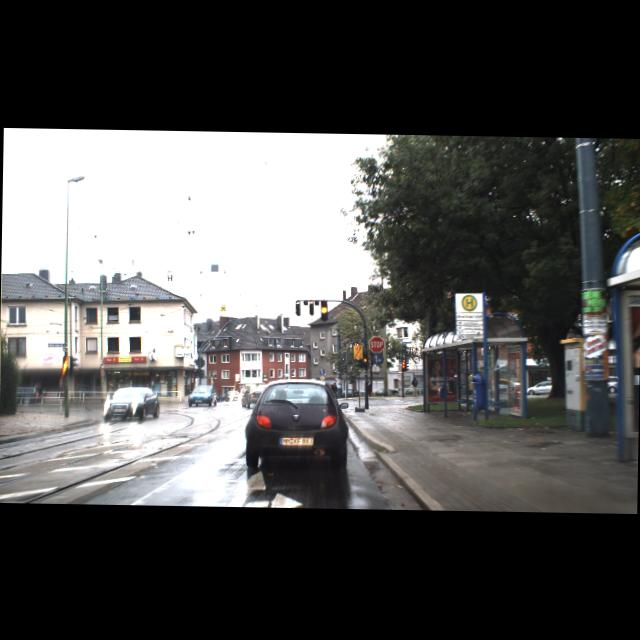mandatory: (371, 352, 382, 363)
other: (368, 334, 385, 352)
